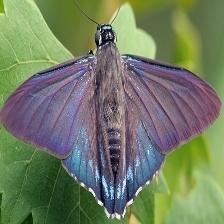butterfly: (0, 24, 221, 219)
